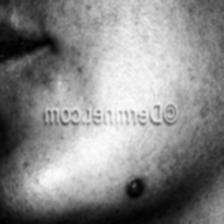Potentially Malignant Skin Tumors: (125, 174, 144, 198)
